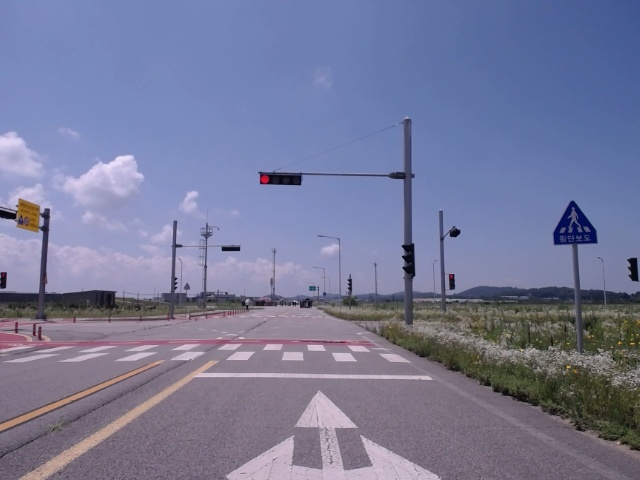red_4: (260, 174, 302, 185)
